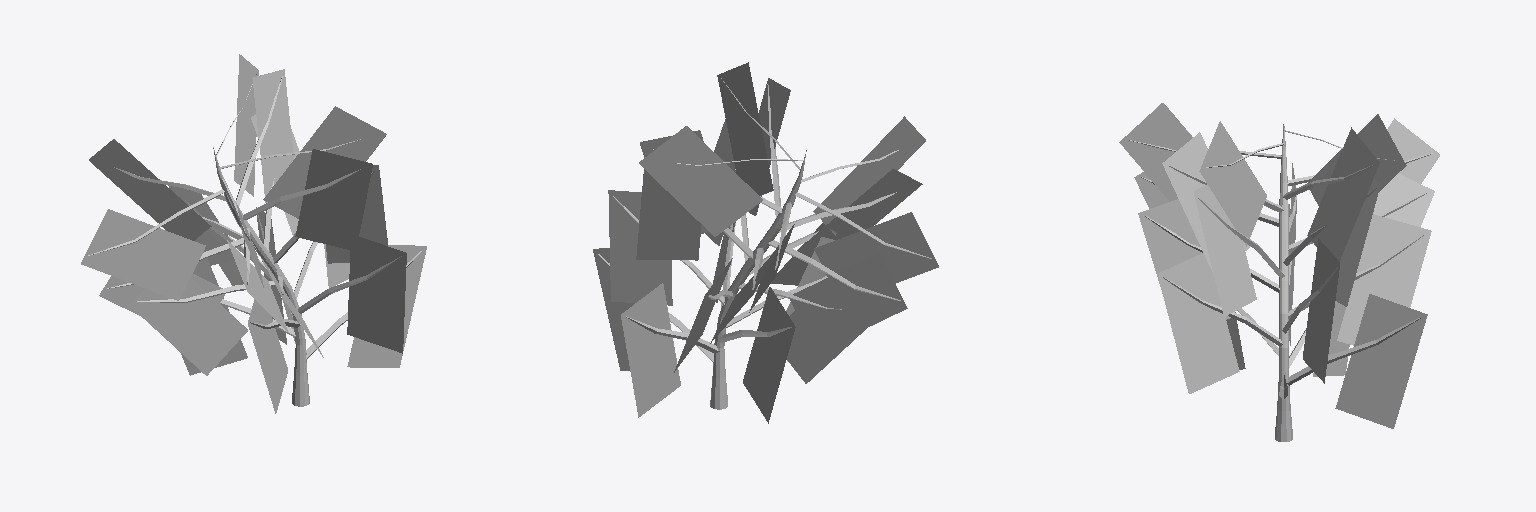
The model's file is great_succ_bb3.obj.
3 renders of one model, left to right at view 1: azimuth 30°, elevation 25°; view 2: azimuth 150°, elevation 25°; view 3: azimuth 270°, elevation 25°, orthographic.
Parts seen in each view (by area): view 1: plant; view 2: plant; view 3: plant.
Boxes of the visible parts, x1,y1,x2,y2 form: plant: [81, 54, 426, 413]; plant: [593, 62, 938, 423]; plant: [1119, 103, 1439, 441].
Size of the model in its own units: 28.86 by 25.39 by 23.18.